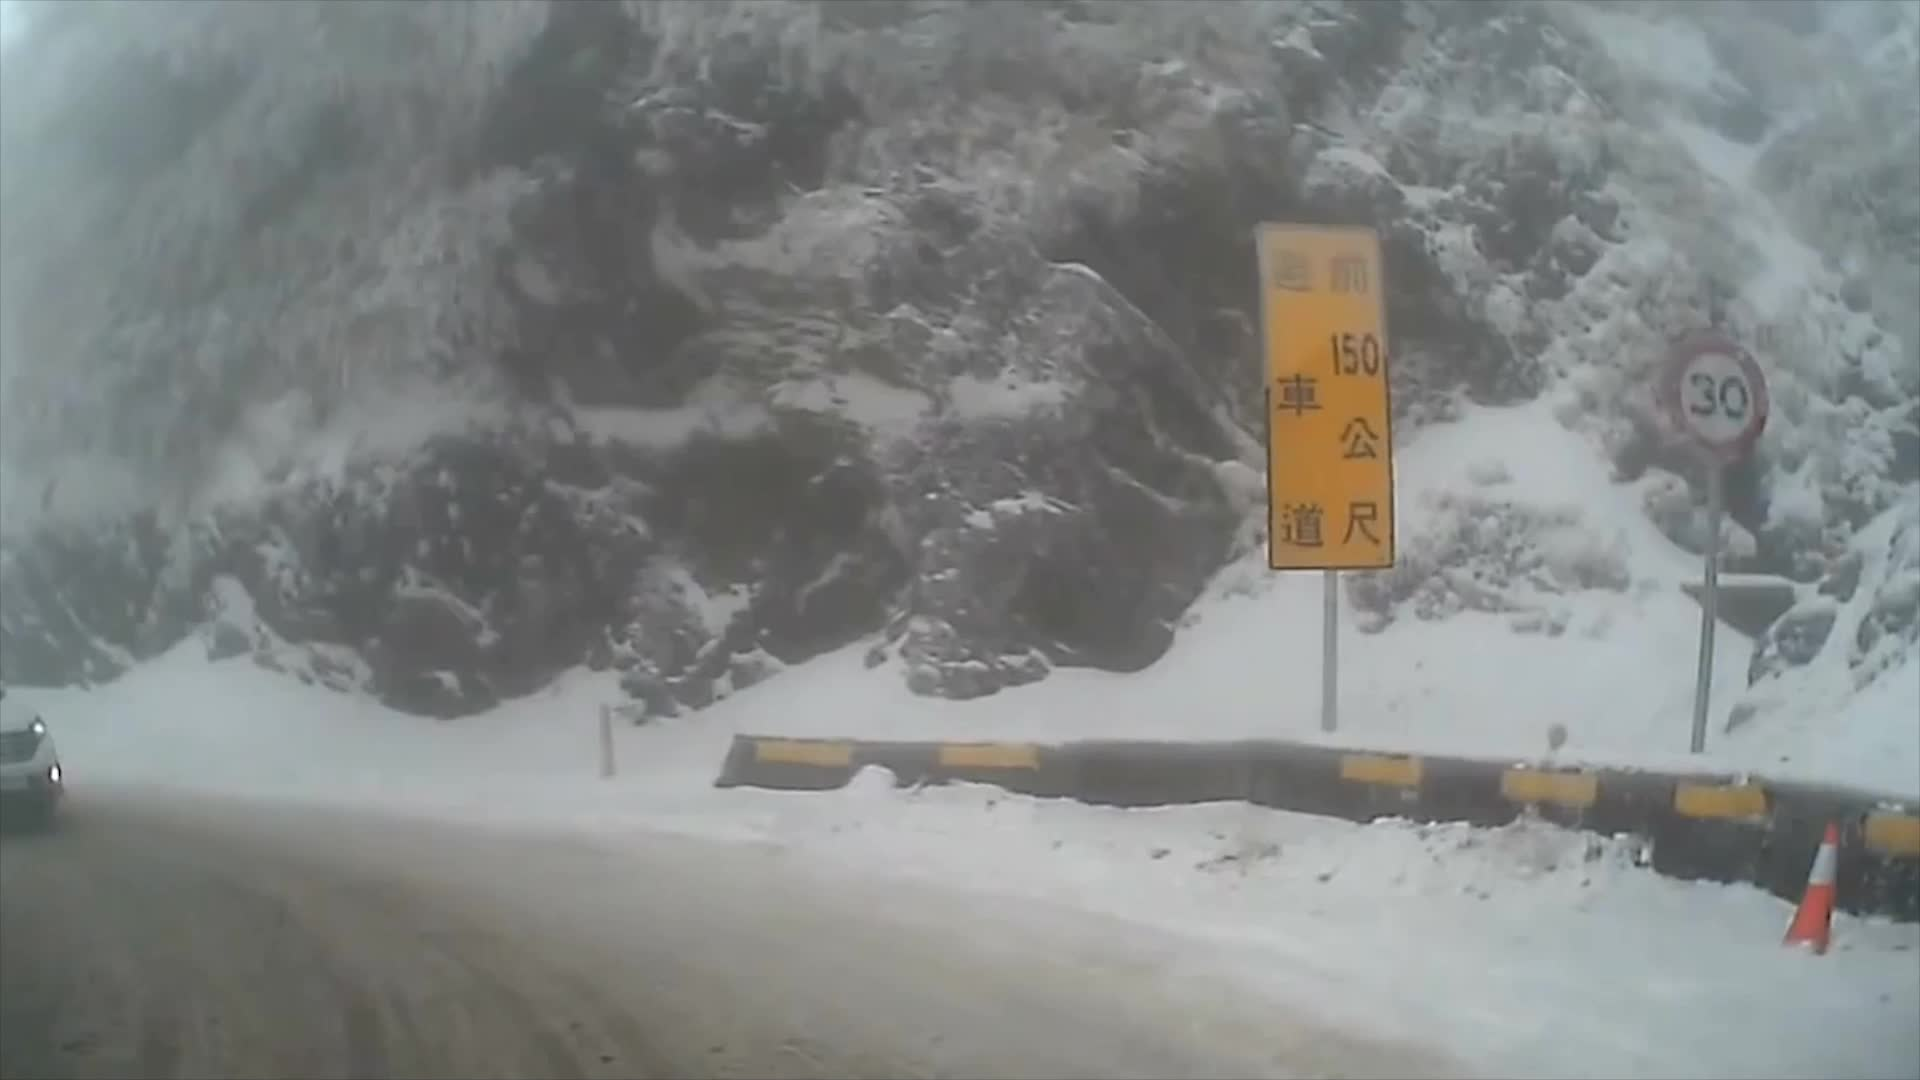vehicle: (0, 680, 65, 833)
